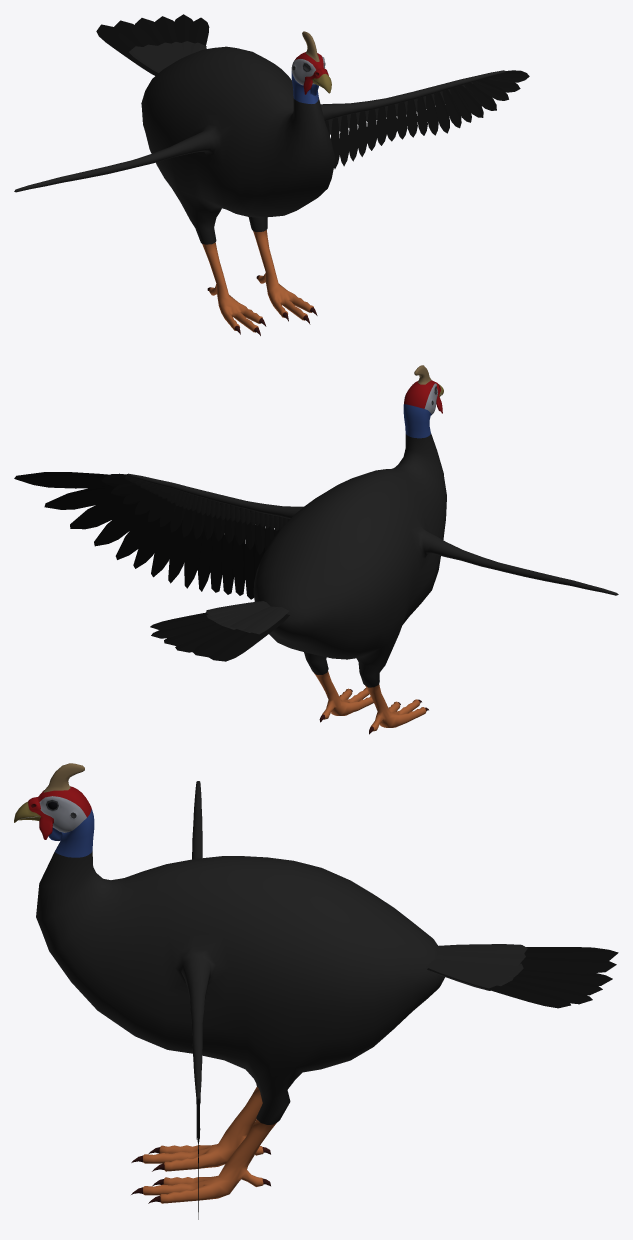
Rendered from guinea_fowl.obj.
3 views of the same model, one above another, from view 1: azimuth 30°, elevation 25°; view 2: azimuth 150°, elevation 25°; view 3: azimuth 270°, elevation 25° (orthographic). The views are drawn at different scales.
Visible parts, largest first — view 1: guinea_fowl, feather_tail_primary_006, feather_tail_primary_005, feather_tail_secondary_006, feather_tail_primary_001; view 2: guinea_fowl, feather_flight_primary_021, feather_flight_primary_020, feather_flight_primary_019, feather_flight_primary_018, feather_tail_primary_006, feather_flight_primary_017, feather_flight_primary_015, feather_flight_primary_016, feather_flight_primary_014, feather_flight_primary_013, feather_flight_primary_011 (+6 smaller); view 3: guinea_fowl, feather_tail_primary_005, feather_tail_primary_001, feather_tail_primary_006, feather_tail_secondary_005, feather_tail_primary_003, feather_tail_secondary_006, feather_tail_primary_004, feather_tail_secondary_001, feather_tail_primary_002.
Part boxes in pixels (bbox=[...]): guinea_fowl: bbox=[14, 31, 506, 335]; feather_tail_primary_006: bbox=[96, 24, 158, 75]; feather_tail_primary_005: bbox=[114, 20, 157, 46]; feather_tail_secondary_006: bbox=[129, 46, 167, 72]; feather_tail_primary_001: bbox=[189, 17, 209, 45]; guinea_fowl: bbox=[126, 365, 618, 734]; feather_flight_primary_021: bbox=[14, 472, 116, 488]; feather_flight_primary_020: bbox=[44, 485, 125, 509]; feather_flight_primary_019: bbox=[70, 495, 138, 529]; feather_flight_primary_018: bbox=[94, 501, 149, 546]; feather_tail_primary_006: bbox=[208, 614, 289, 661]; feather_flight_primary_017: bbox=[115, 510, 160, 559]; feather_flight_primary_015: bbox=[151, 520, 182, 577]; feather_flight_primary_016: bbox=[133, 519, 170, 568]; feather_flight_primary_014: bbox=[168, 526, 192, 583]; feather_flight_primary_013: bbox=[184, 525, 203, 588]; feather_flight_primary_011: bbox=[210, 515, 224, 592]; guinea_fowl: bbox=[14, 763, 444, 1203]; feather_tail_primary_005: bbox=[520, 957, 616, 973]; feather_tail_primary_001: bbox=[427, 968, 570, 1008]; feather_tail_primary_006: bbox=[524, 947, 618, 960]; feather_tail_secondary_005: bbox=[437, 951, 525, 965]; feather_tail_primary_003: bbox=[513, 974, 602, 995]; feather_tail_secondary_006: bbox=[438, 944, 527, 954]; feather_tail_primary_004: bbox=[518, 969, 612, 985]; feather_tail_secondary_001: bbox=[426, 961, 502, 988]; feather_tail_primary_002: bbox=[508, 979, 592, 1004].
Size of the model in its own units: 1.25 by 0.6195 by 0.8159.
